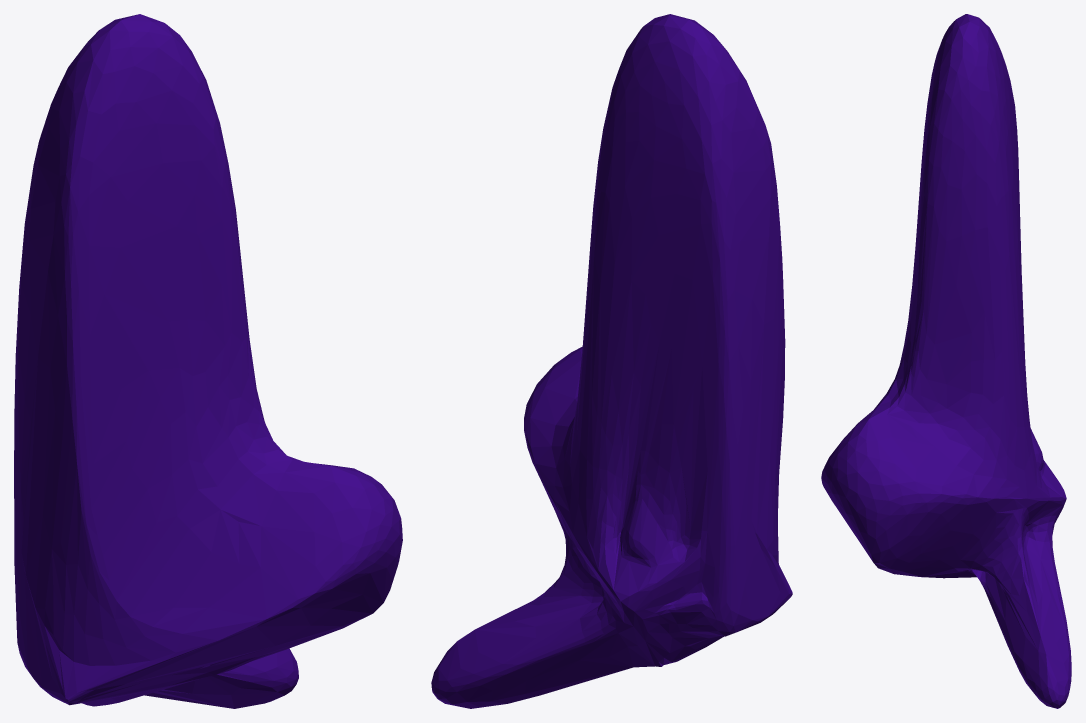
3 views of the same model, side by side, from view 1: azimuth 30°, elevation 25°; view 2: azimuth 150°, elevation 25°; view 3: azimuth 270°, elevation 25° (orthographic). The views are drawn at different scales.
Visible parts, largest first — view 1: 868_Cube.3506; view 2: 868_Cube.3506; view 3: 868_Cube.3506.
Part boxes in pixels (box(x1,y1,x2,y2)): 868_Cube.3506: box(14, 14, 402, 708); 868_Cube.3506: box(431, 14, 792, 708); 868_Cube.3506: box(821, 14, 1071, 708).
Bounding box in the file's own units: 5.67 × 13.21 × 4.89.
